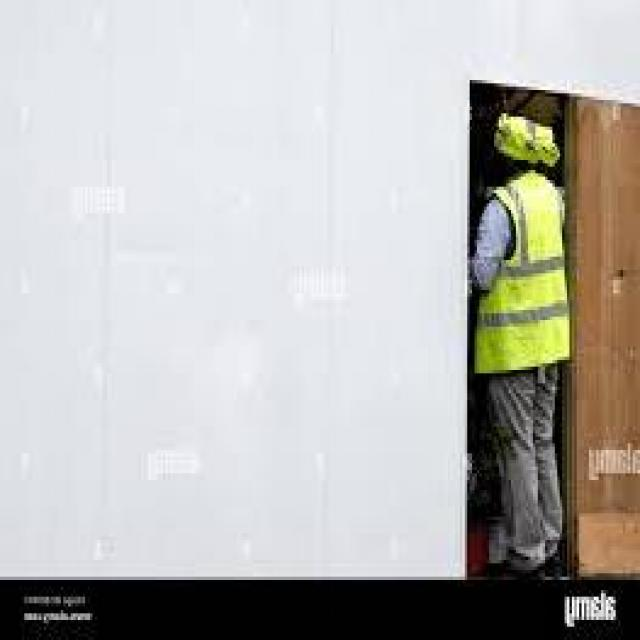Reflective-Jacket: (465, 173, 584, 390), (482, 103, 567, 177)
